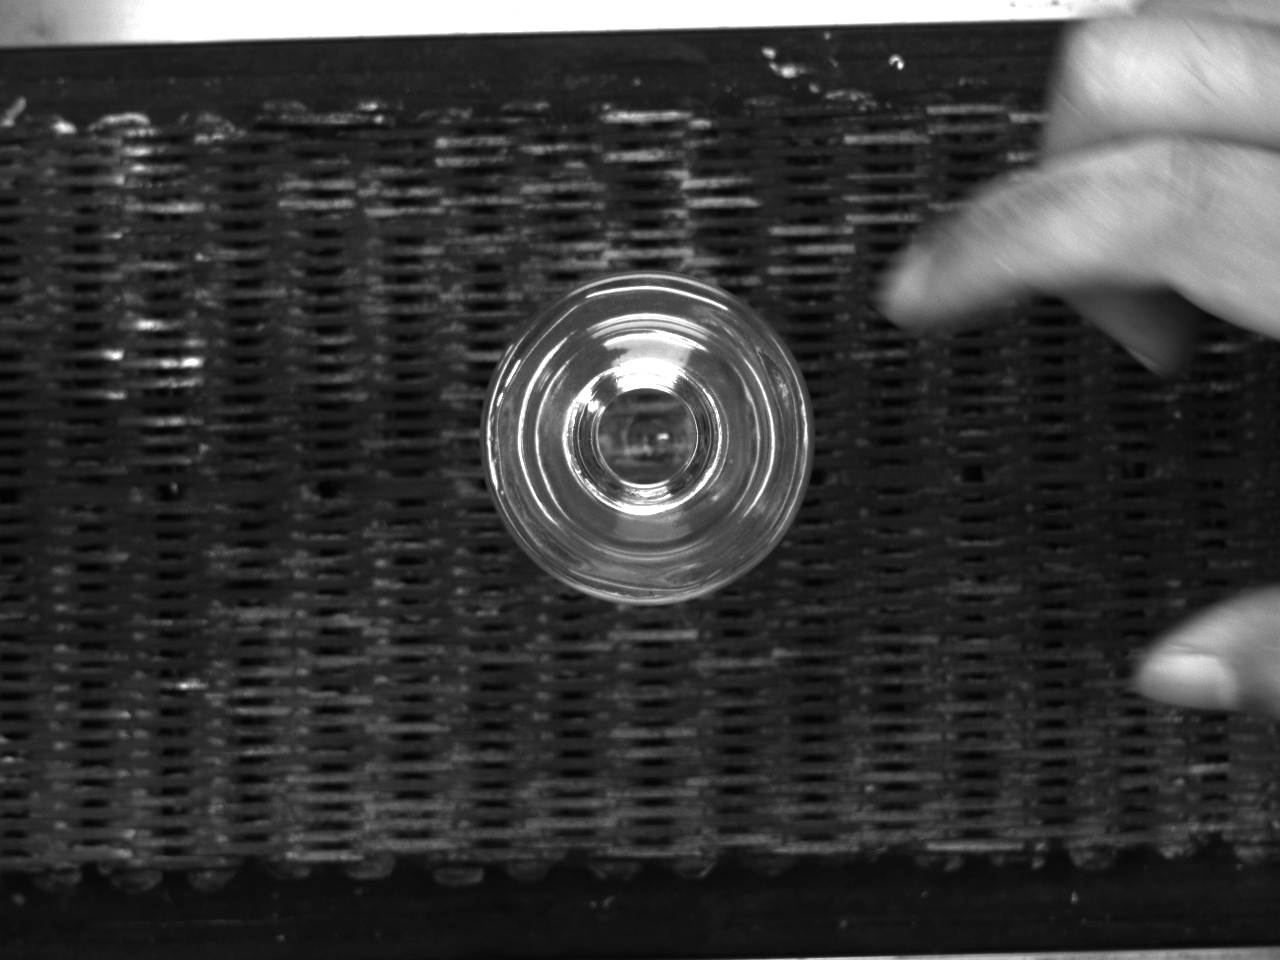bottleneck: (569, 359, 723, 515)
